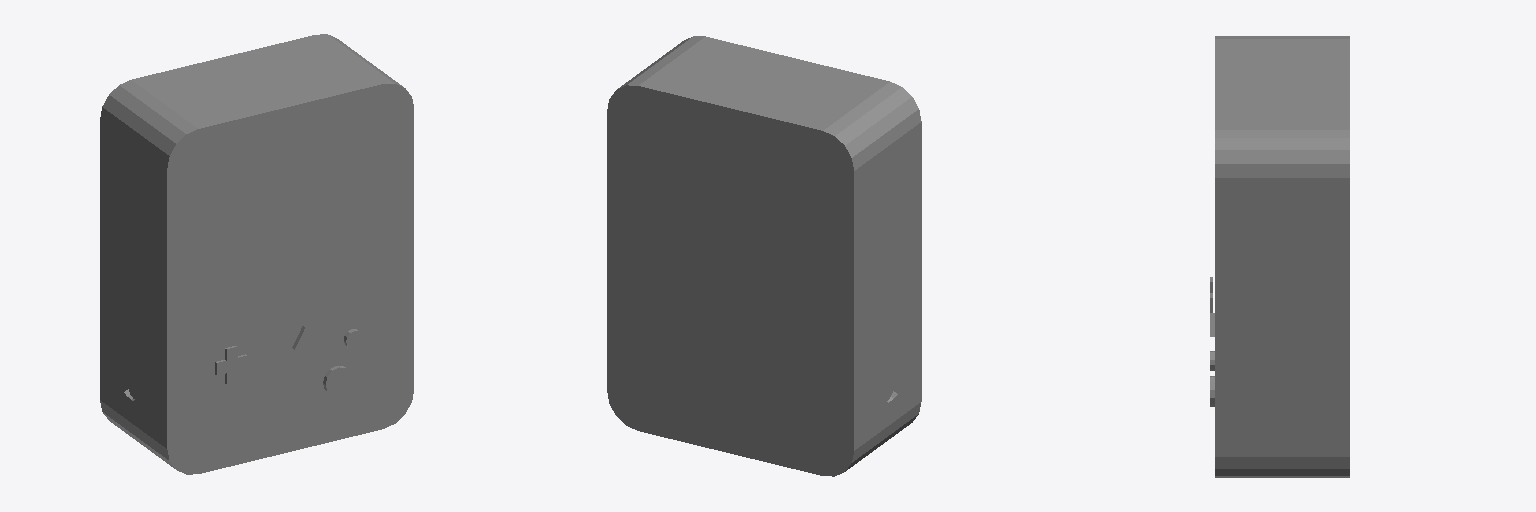
File: bmo_cuerpo.obj
3 views of the same model, side by side, from view 1: azimuth 30°, elevation 25°; view 2: azimuth 150°, elevation 25°; view 3: azimuth 270°, elevation 25° (orthographic).
Parts seen in each view (by area): view 1: scene; view 2: scene; view 3: scene.
Part boxes in pixels (x1,y1,x2,y2): scene: (100, 34, 413, 474); scene: (607, 36, 921, 476); scene: (1210, 36, 1349, 477).
Bounding box in the file's own units: 2.88 × 3.77 × 1.39.